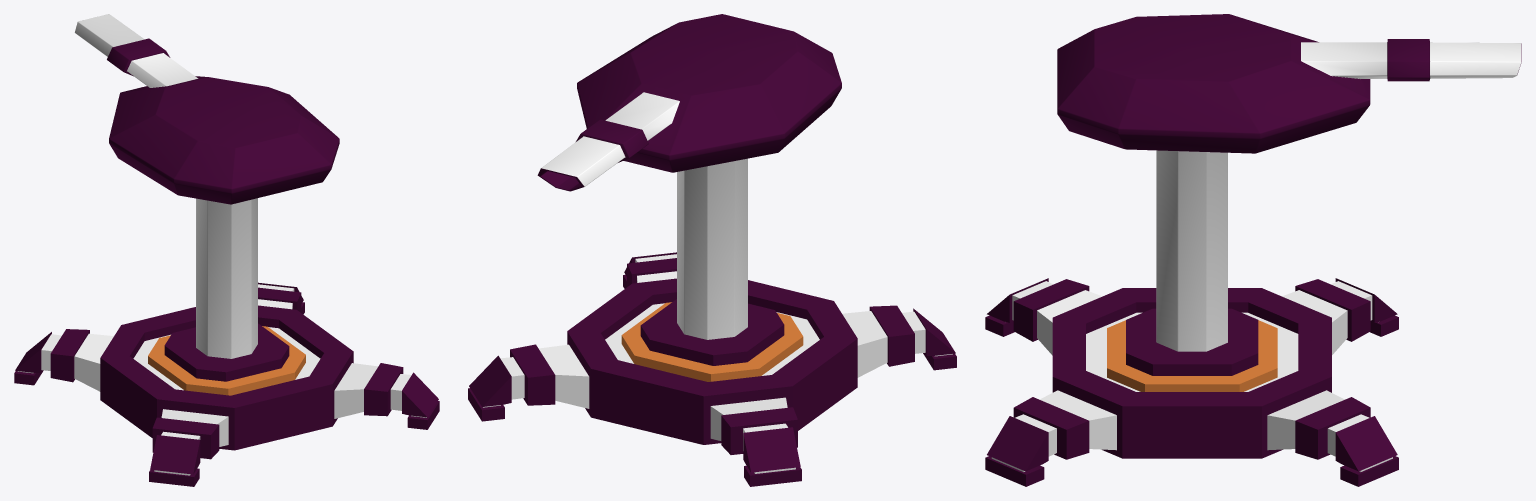
The model's file is Tower.fbx.
The picture shows the model from 3 angles, left to right: view 1: azimuth 30°, elevation 25°; view 2: azimuth 150°, elevation 25°; view 3: azimuth 270°, elevation 25°; orthographic projection. The views are drawn at different scales.
Visible parts, largest first — view 1: Base, Turret; view 2: Base, Turret; view 3: Base, Turret.
Part boxes in pixels (<box>): Base: <box>14,282,439,486</box>; Turret: <box>74,14,339,358</box>; Base: <box>468,252,956,486</box>; Turret: <box>537,14,841,339</box>; Base: <box>985,278,1398,486</box>; Turret: <box>1057,14,1521,351</box>.
Bounding box in the file's own units: 57.7 × 54.11 × 74.77.
